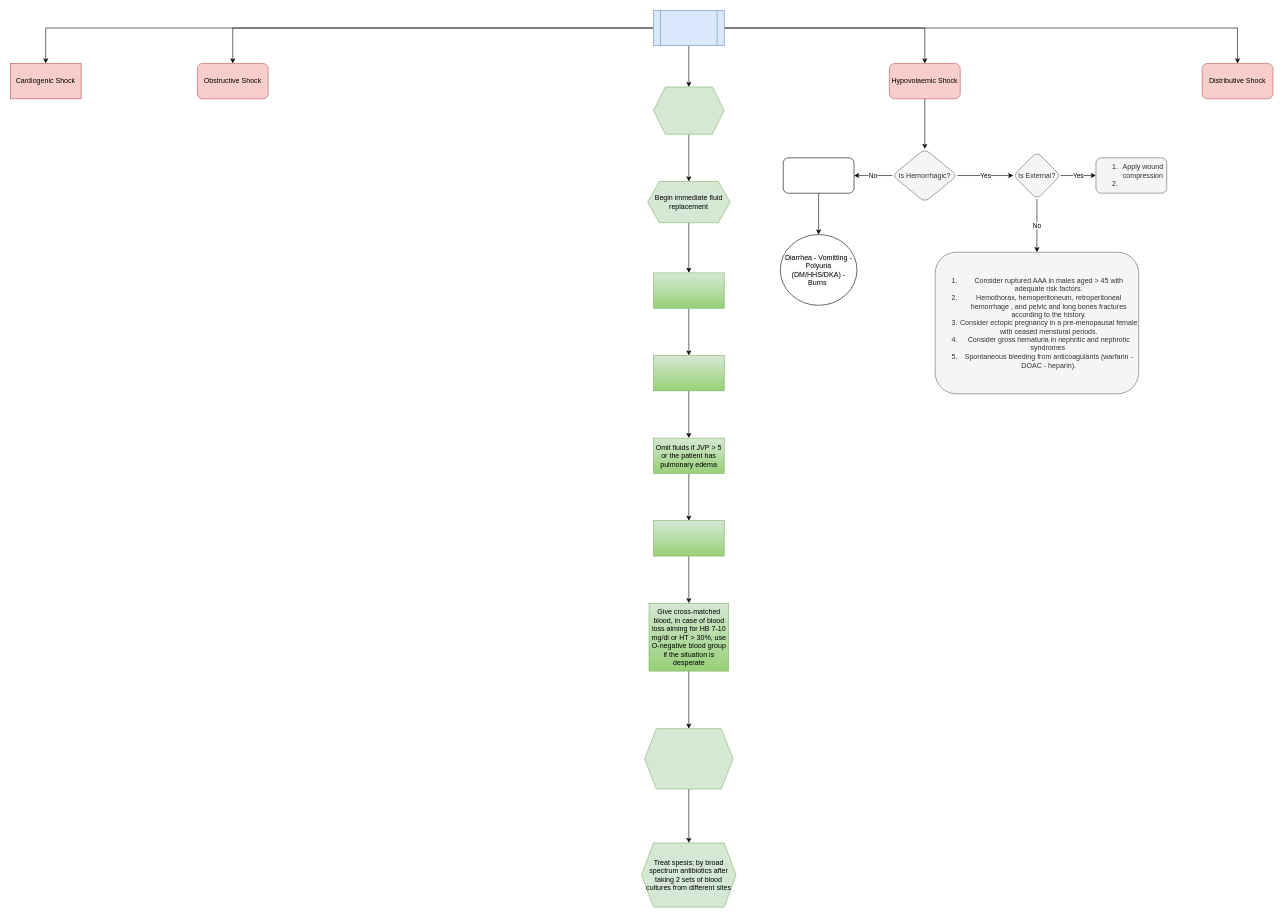
This 1283x917 diagram has some shape labels left out. The centre of each missing label's shape, as x and y in pixels:
"Aim for urine output of {0.5 - 1} ml/kg/hr" goes at (688,538).
"External/Internal fluid loss" goes at (818,175).
"Give 20 ml/kg IV normal saline rapidly" goes at (688,290).
"High dose O2 via mask aiming at {SPO2 > 94%}" goes at (688,110).
"Optimize afterload; by giving a vasopressor in case of anaphylaxis or" goes at (688,758).
"Repeat, until JVP is {3 - 5} cm above the sternal angle" goes at (688,373).
"Shocked patient" goes at (688,28).
